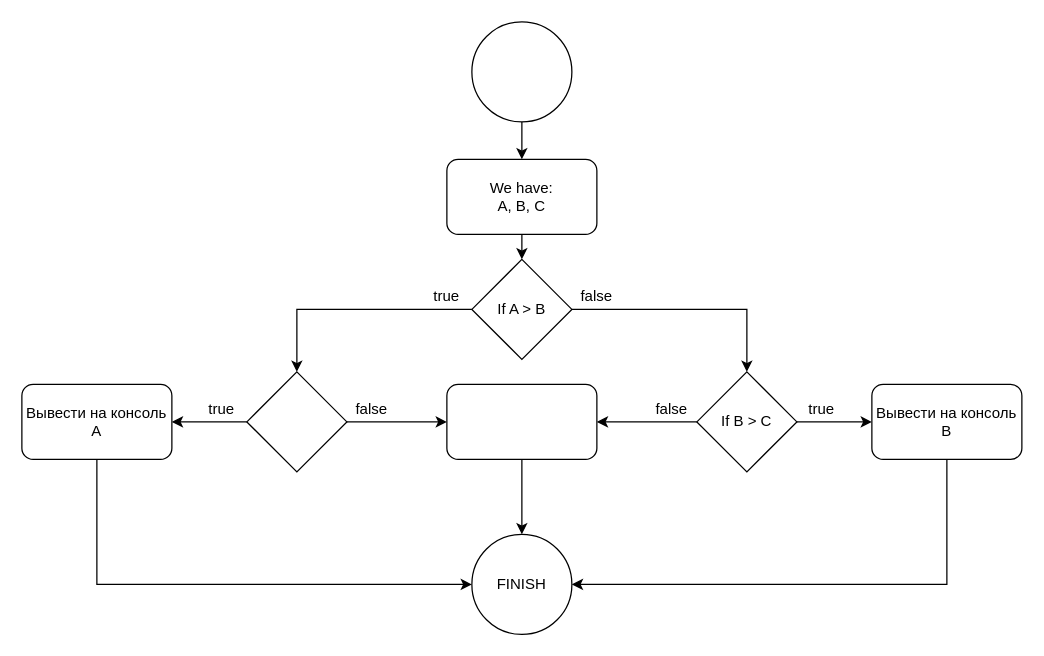
Image size: 1044x656. Some labels were removed from this diagram. The box of each missing label's shape, as (x1, y1, x2, y2) in pixels:
If A > C: (246, 371, 347, 472)
START: (471, 21, 572, 122)
Вывести на консоль C: (446, 383, 597, 459)
